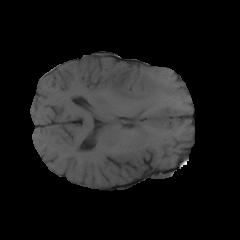glioma: (108, 66, 163, 109)
